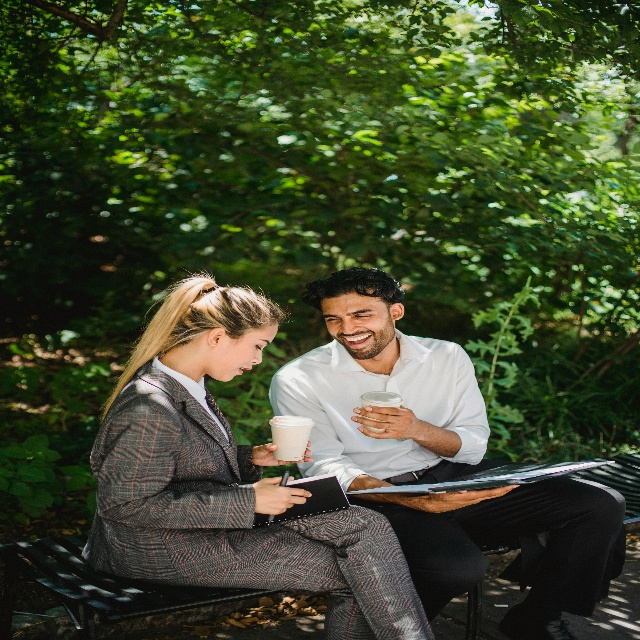Sin_guantes: (423, 487, 520, 515), (351, 405, 416, 443), (255, 476, 312, 516), (251, 441, 315, 463)
